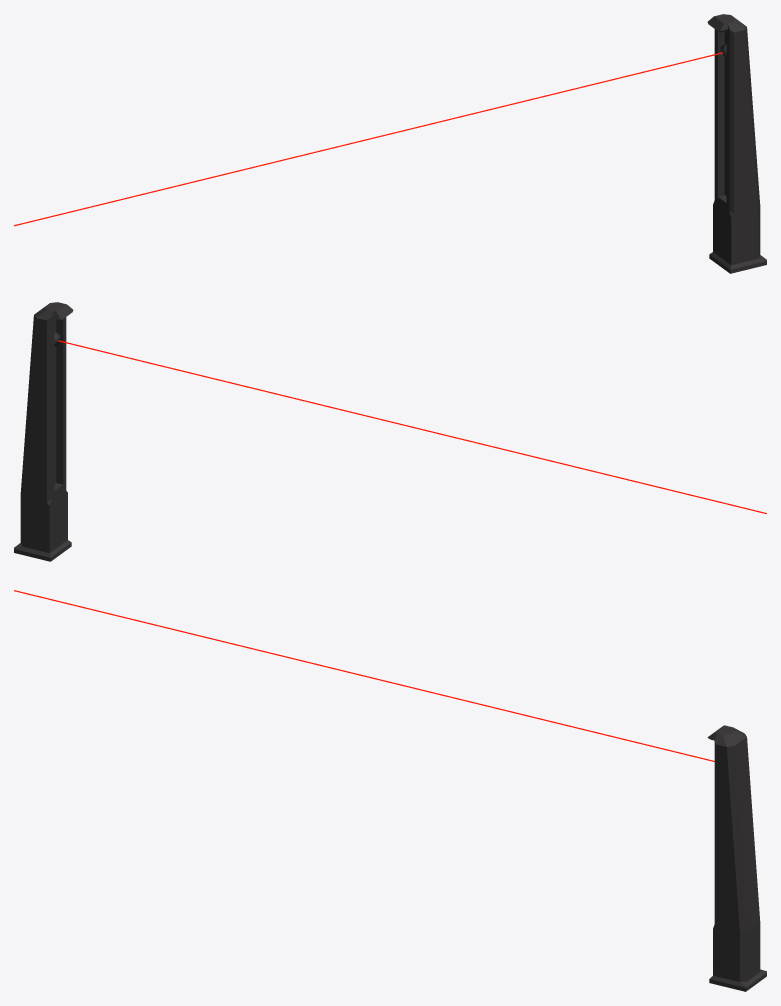
File: laser.fbx
3 renders of one model, top to bottom at view 1: azimuth 30°, elevation 25°; view 2: azimuth 150°, elevation 25°; view 3: azimuth 330°, elevation 25°, orthographic.
Parts seen in each view (by area): view 1: laser; view 2: laser; view 3: laser.
Boxes of the visible parts, x1=… form: laser: x1=14, y1=14, x2=766, y2=273; laser: x1=14, y1=302, x2=766, y2=561; laser: x1=14, y1=590, x2=766, y2=991.
Size of the model in its own units: 455 by 144 by 22.49.
